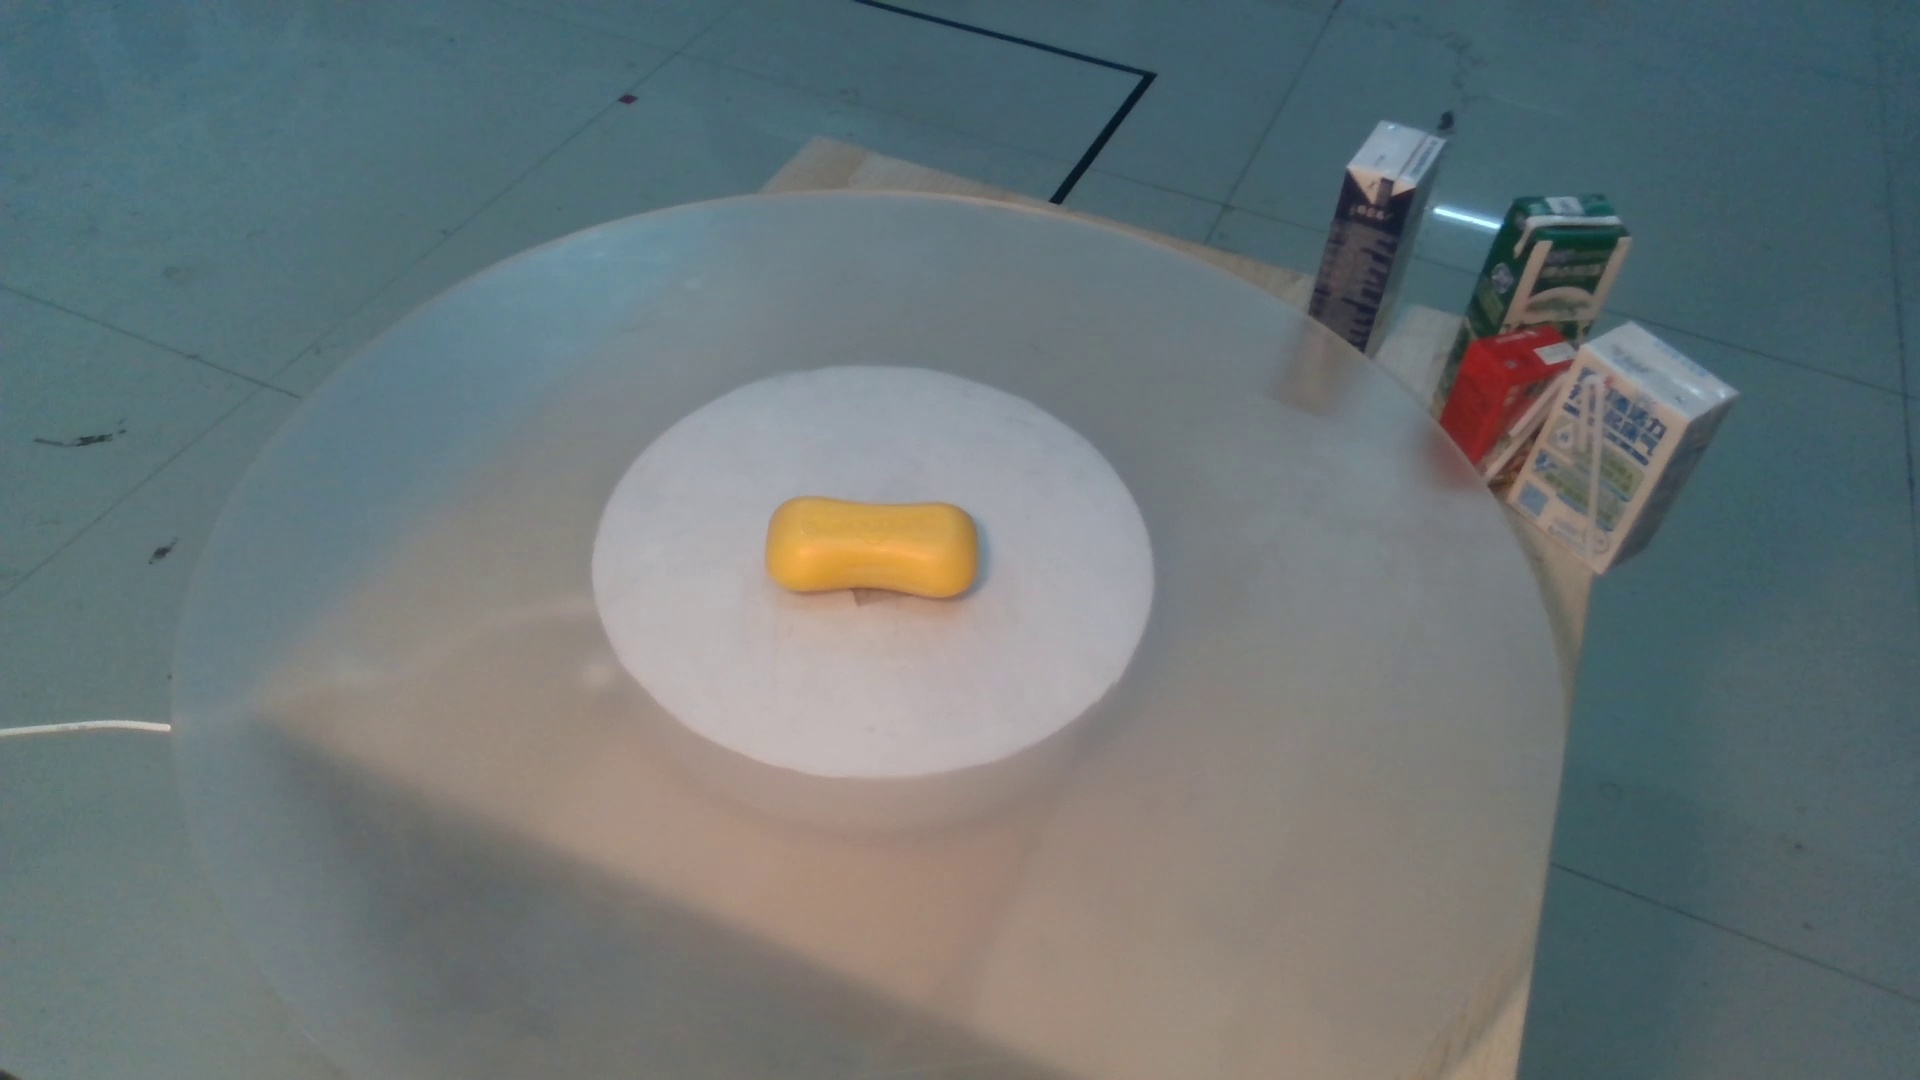CA003_1: (738, 469, 1015, 629)
